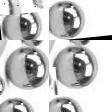ironball: (49, 42, 101, 96), (5, 47, 50, 90), (48, 0, 84, 39), (2, 13, 41, 38), (7, 40, 42, 59), (0, 0, 41, 16), (0, 97, 39, 111), (49, 96, 83, 111), (49, 40, 62, 76), (69, 40, 95, 50), (49, 67, 55, 97)
